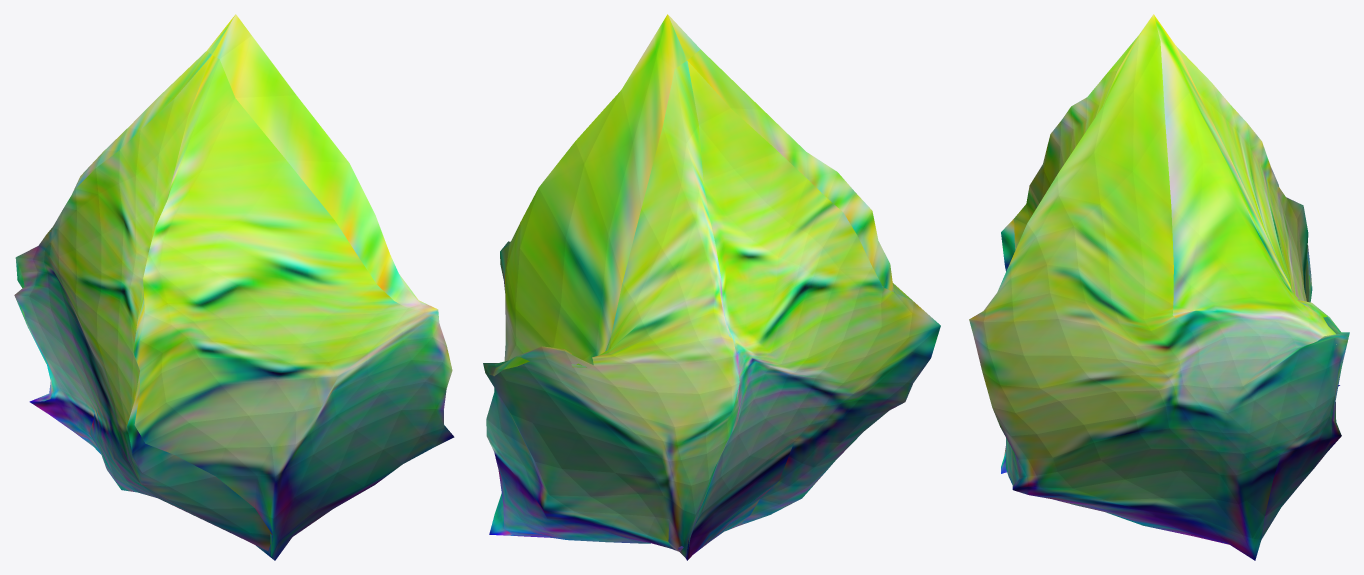
The picture shows the model from 3 angles, left to right: view 1: azimuth 30°, elevation 25°; view 2: azimuth 150°, elevation 25°; view 3: azimuth 270°, elevation 25°; orthographic projection. The views are drawn at different scales.
Parts seen in each view (by area): view 1: pMesh1; view 2: pMesh1; view 3: pMesh1.
Boxes of the visible parts, box(x1,y1,x2,y2) form: pMesh1: box(14, 14, 454, 560); pMesh1: box(483, 14, 940, 560); pMesh1: box(969, 14, 1349, 560).
Bounding box in the file's own units: 2.46 × 3.46 × 2.45.
Materials: 1 (1 with a texture image).
